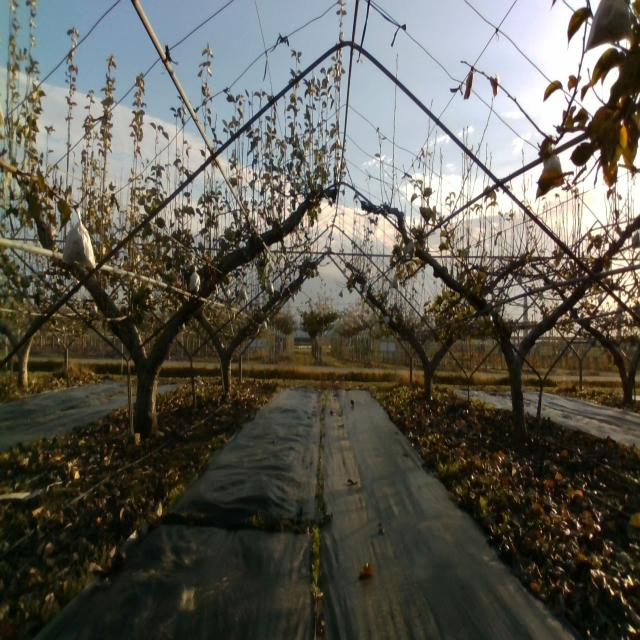pearbags: (583, 0, 634, 50), (63, 211, 96, 270), (540, 141, 562, 181), (189, 266, 201, 291), (403, 238, 417, 256), (238, 285, 249, 305)
